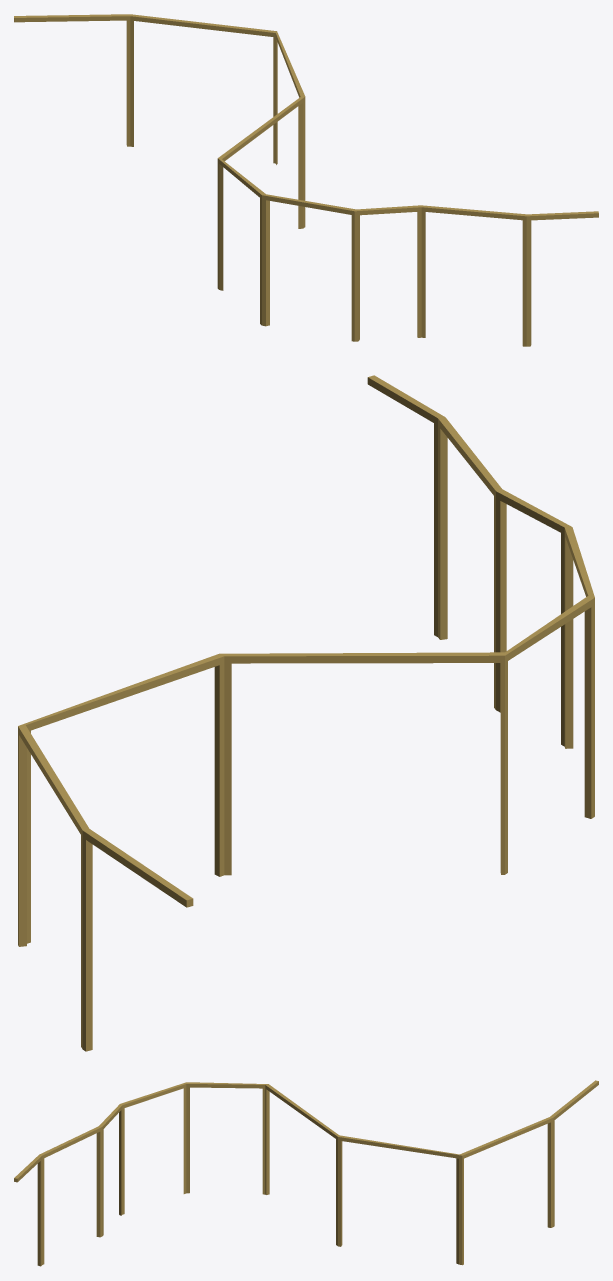
File: WoodPlank.fbx
The picture shows the model from 3 angles, top to bottom: view 1: azimuth 30°, elevation 25°; view 2: azimuth 150°, elevation 25°; view 3: azimuth 270°, elevation 25°; orthographic projection. The views are drawn at different scales.
Visible parts, largest first — view 1: WoodPlank; view 2: WoodPlank; view 3: WoodPlank.
Part boxes in pixels (left/top/right/bottom): WoodPlank: left=14, top=14, right=598, bottom=346; WoodPlank: left=18, top=375, right=594, bottom=1051; WoodPlank: left=14, top=1080, right=598, bottom=1266.
Bounding box in the file's own units: 1207 × 626 × 3030.
